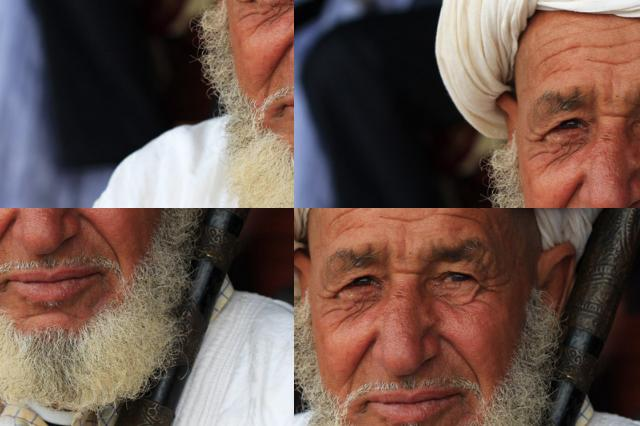chin: (134, 99, 170, 115)
crows_feet: (318, 288, 346, 316), (475, 275, 501, 303)
forehead: (379, 211, 435, 227), (330, 208, 362, 229), (446, 208, 481, 225)
frown_line: (388, 263, 419, 279), (480, 203, 504, 208)
gummy_smile: (438, 333, 479, 369), (350, 338, 374, 380), (162, 1, 188, 33), (75, 6, 105, 32)
